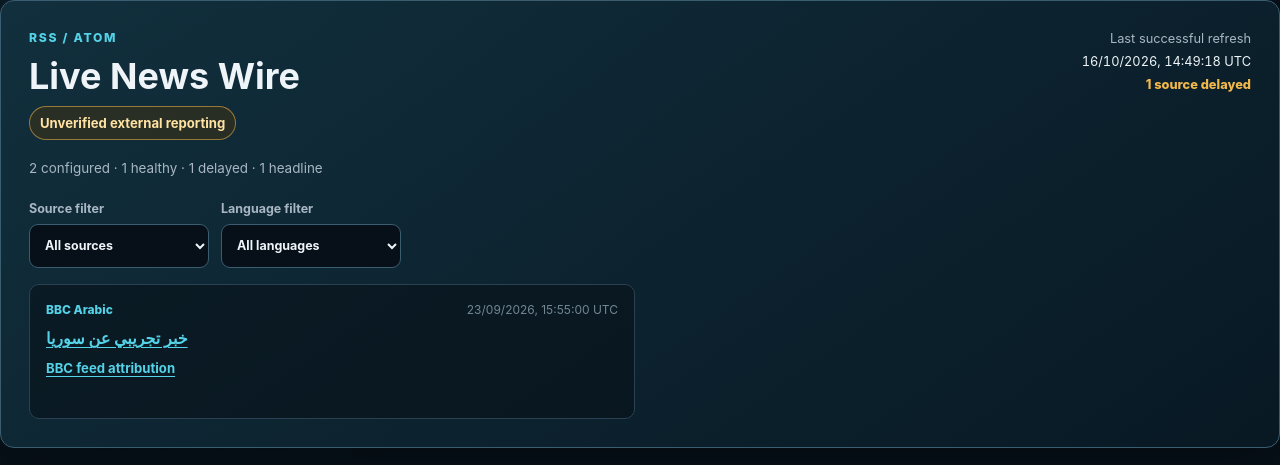
Test: NewsWire › explains an all-sources language mismatch without claiming the wire is empty
Select "English" in the dropdown labelled "Language filter": (311,246) [221, 224, 401, 268]
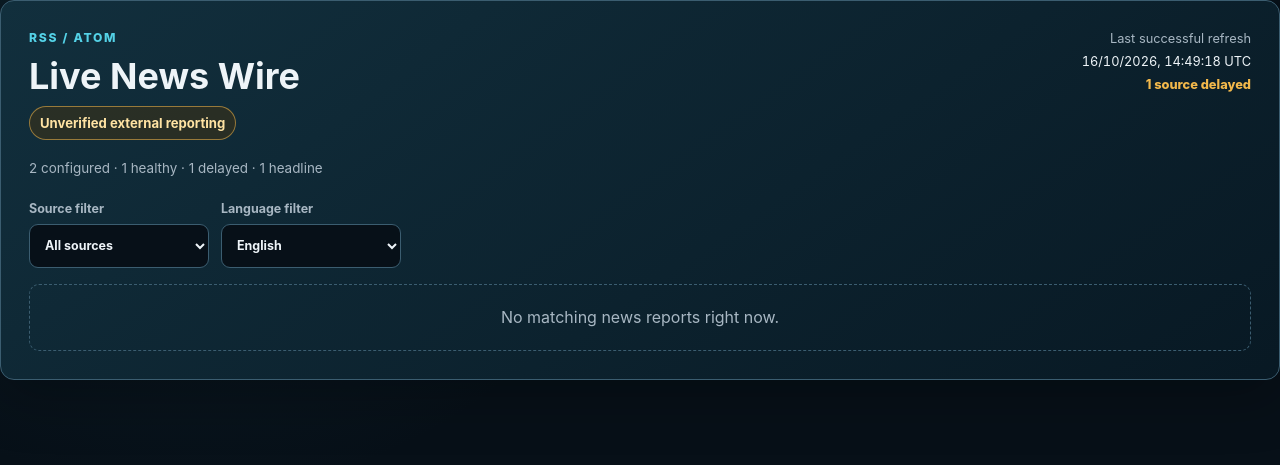
Check: the text "No matching news reports right now." is shown, box [501, 307, 779, 327]
